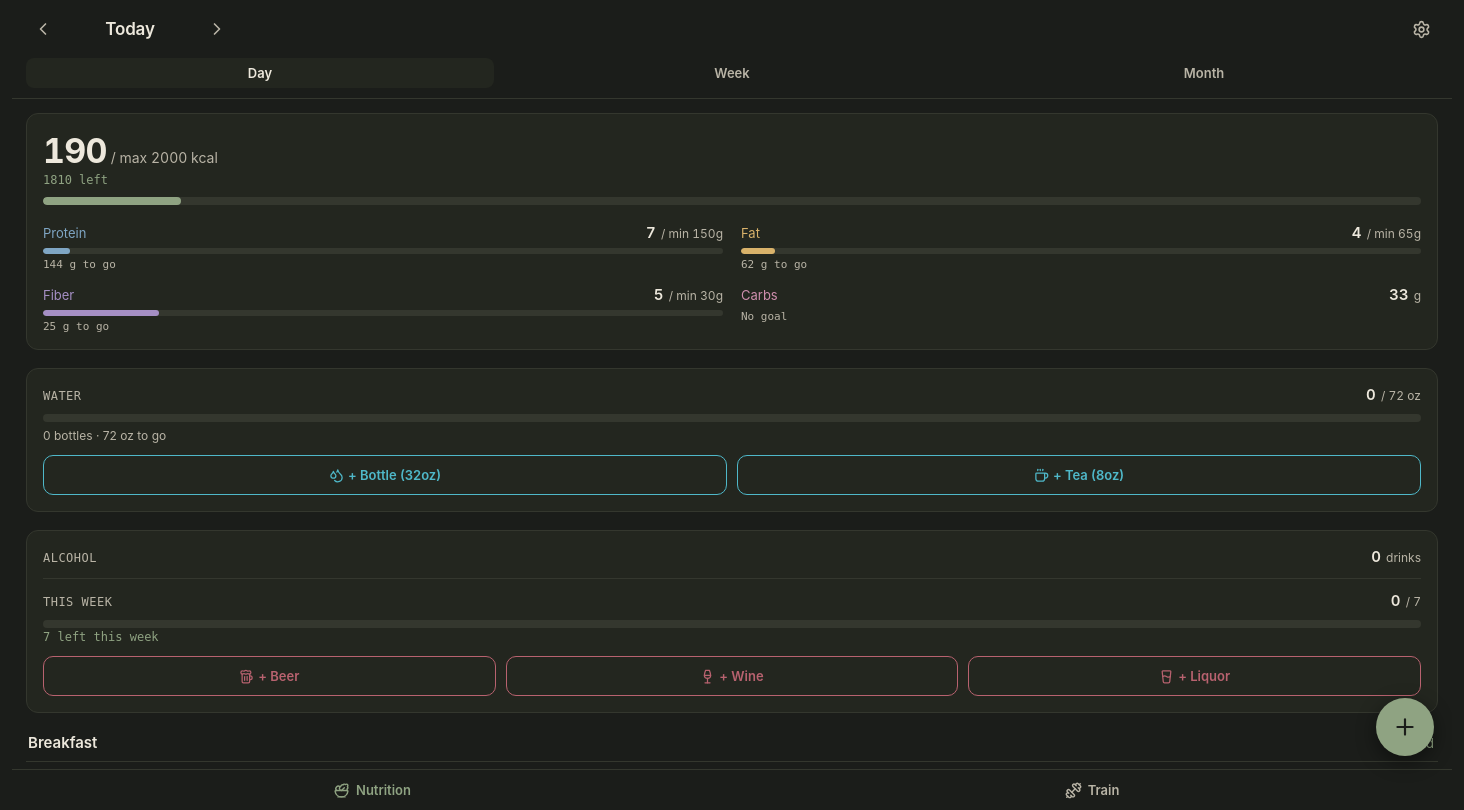
Scenario: App › shows the scale's latest readings in lb, with the change since the last one
The width and height of the screenshot is (1464, 810).
Click the button "Train".
click(1092, 790)  # box [732,770,1452,809]
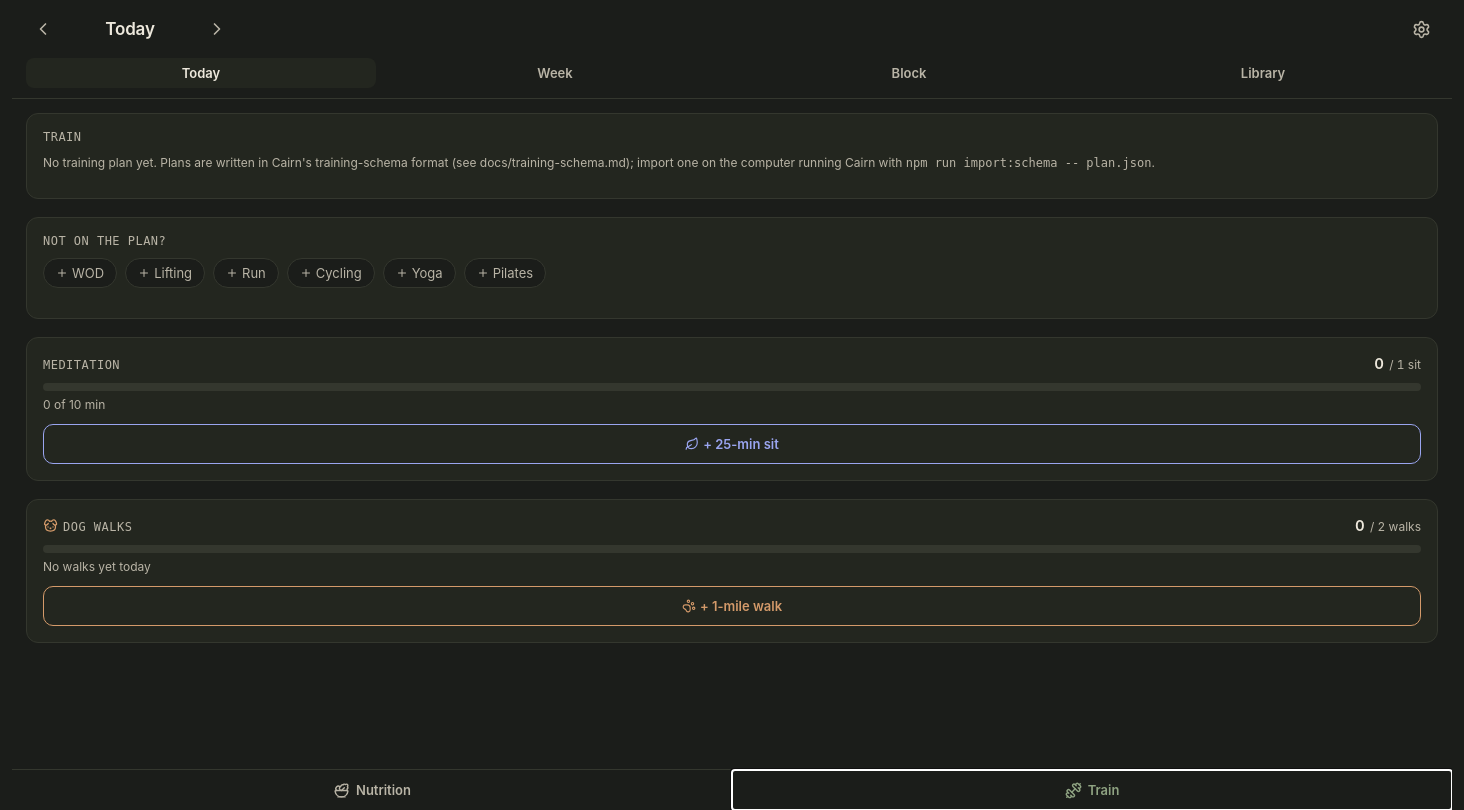
Click the tab "Block".
click(909, 73)  # box [734,58,1084,88]
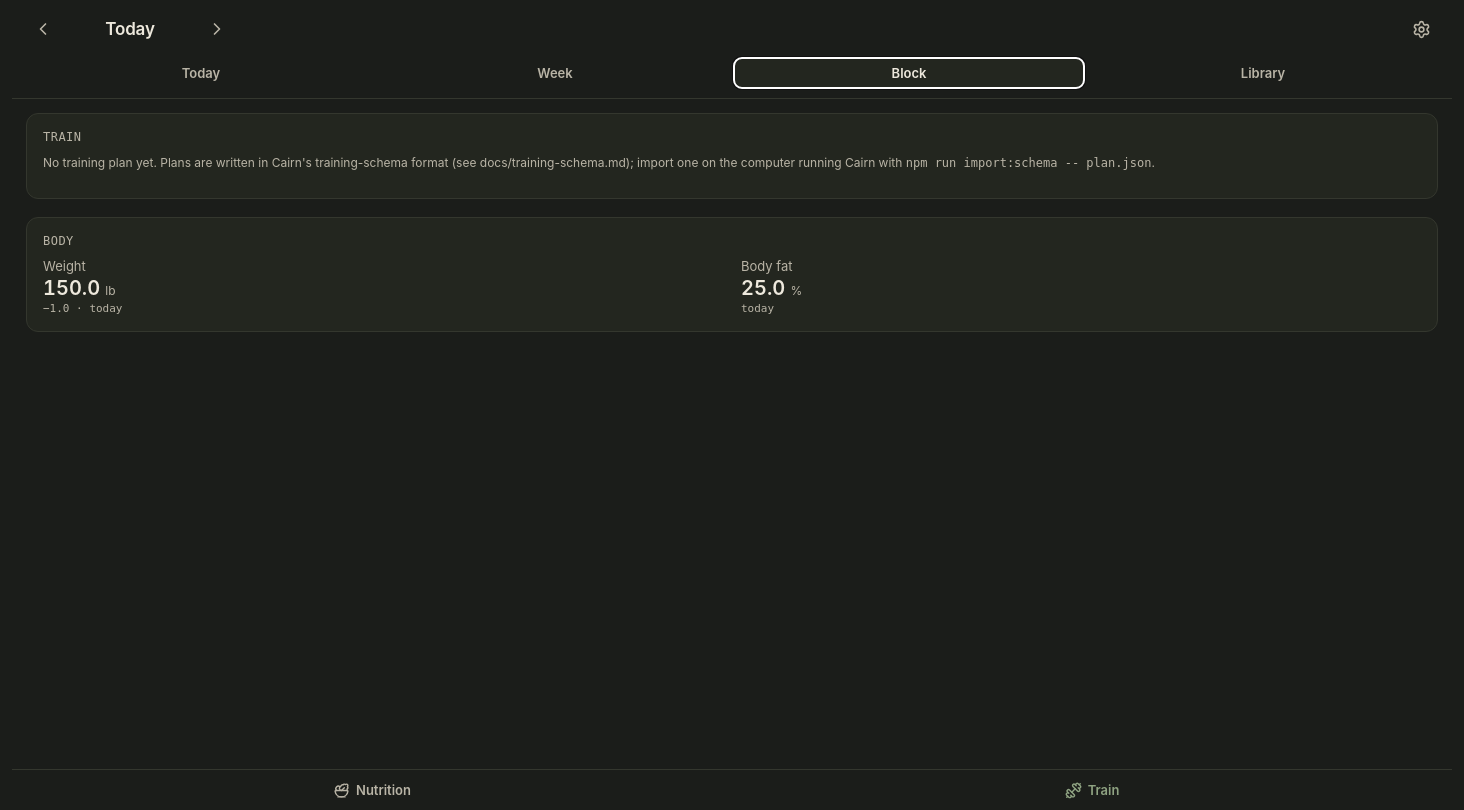
Now the text "150.0" is shown, box [43,276,100,300]
Now the text "−1.0 · today" is shown, box [43,302,122,315]
Now the text "25.0" is shown, box [741,276,785,300]
